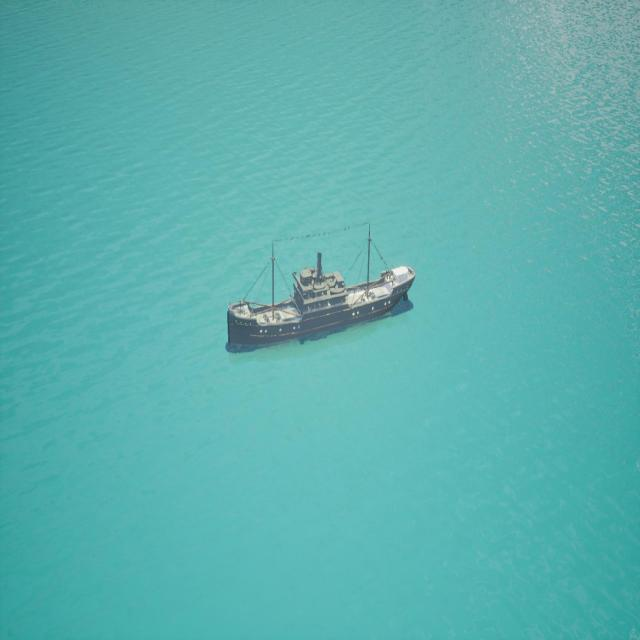fishing ship: (228, 239, 417, 352)
